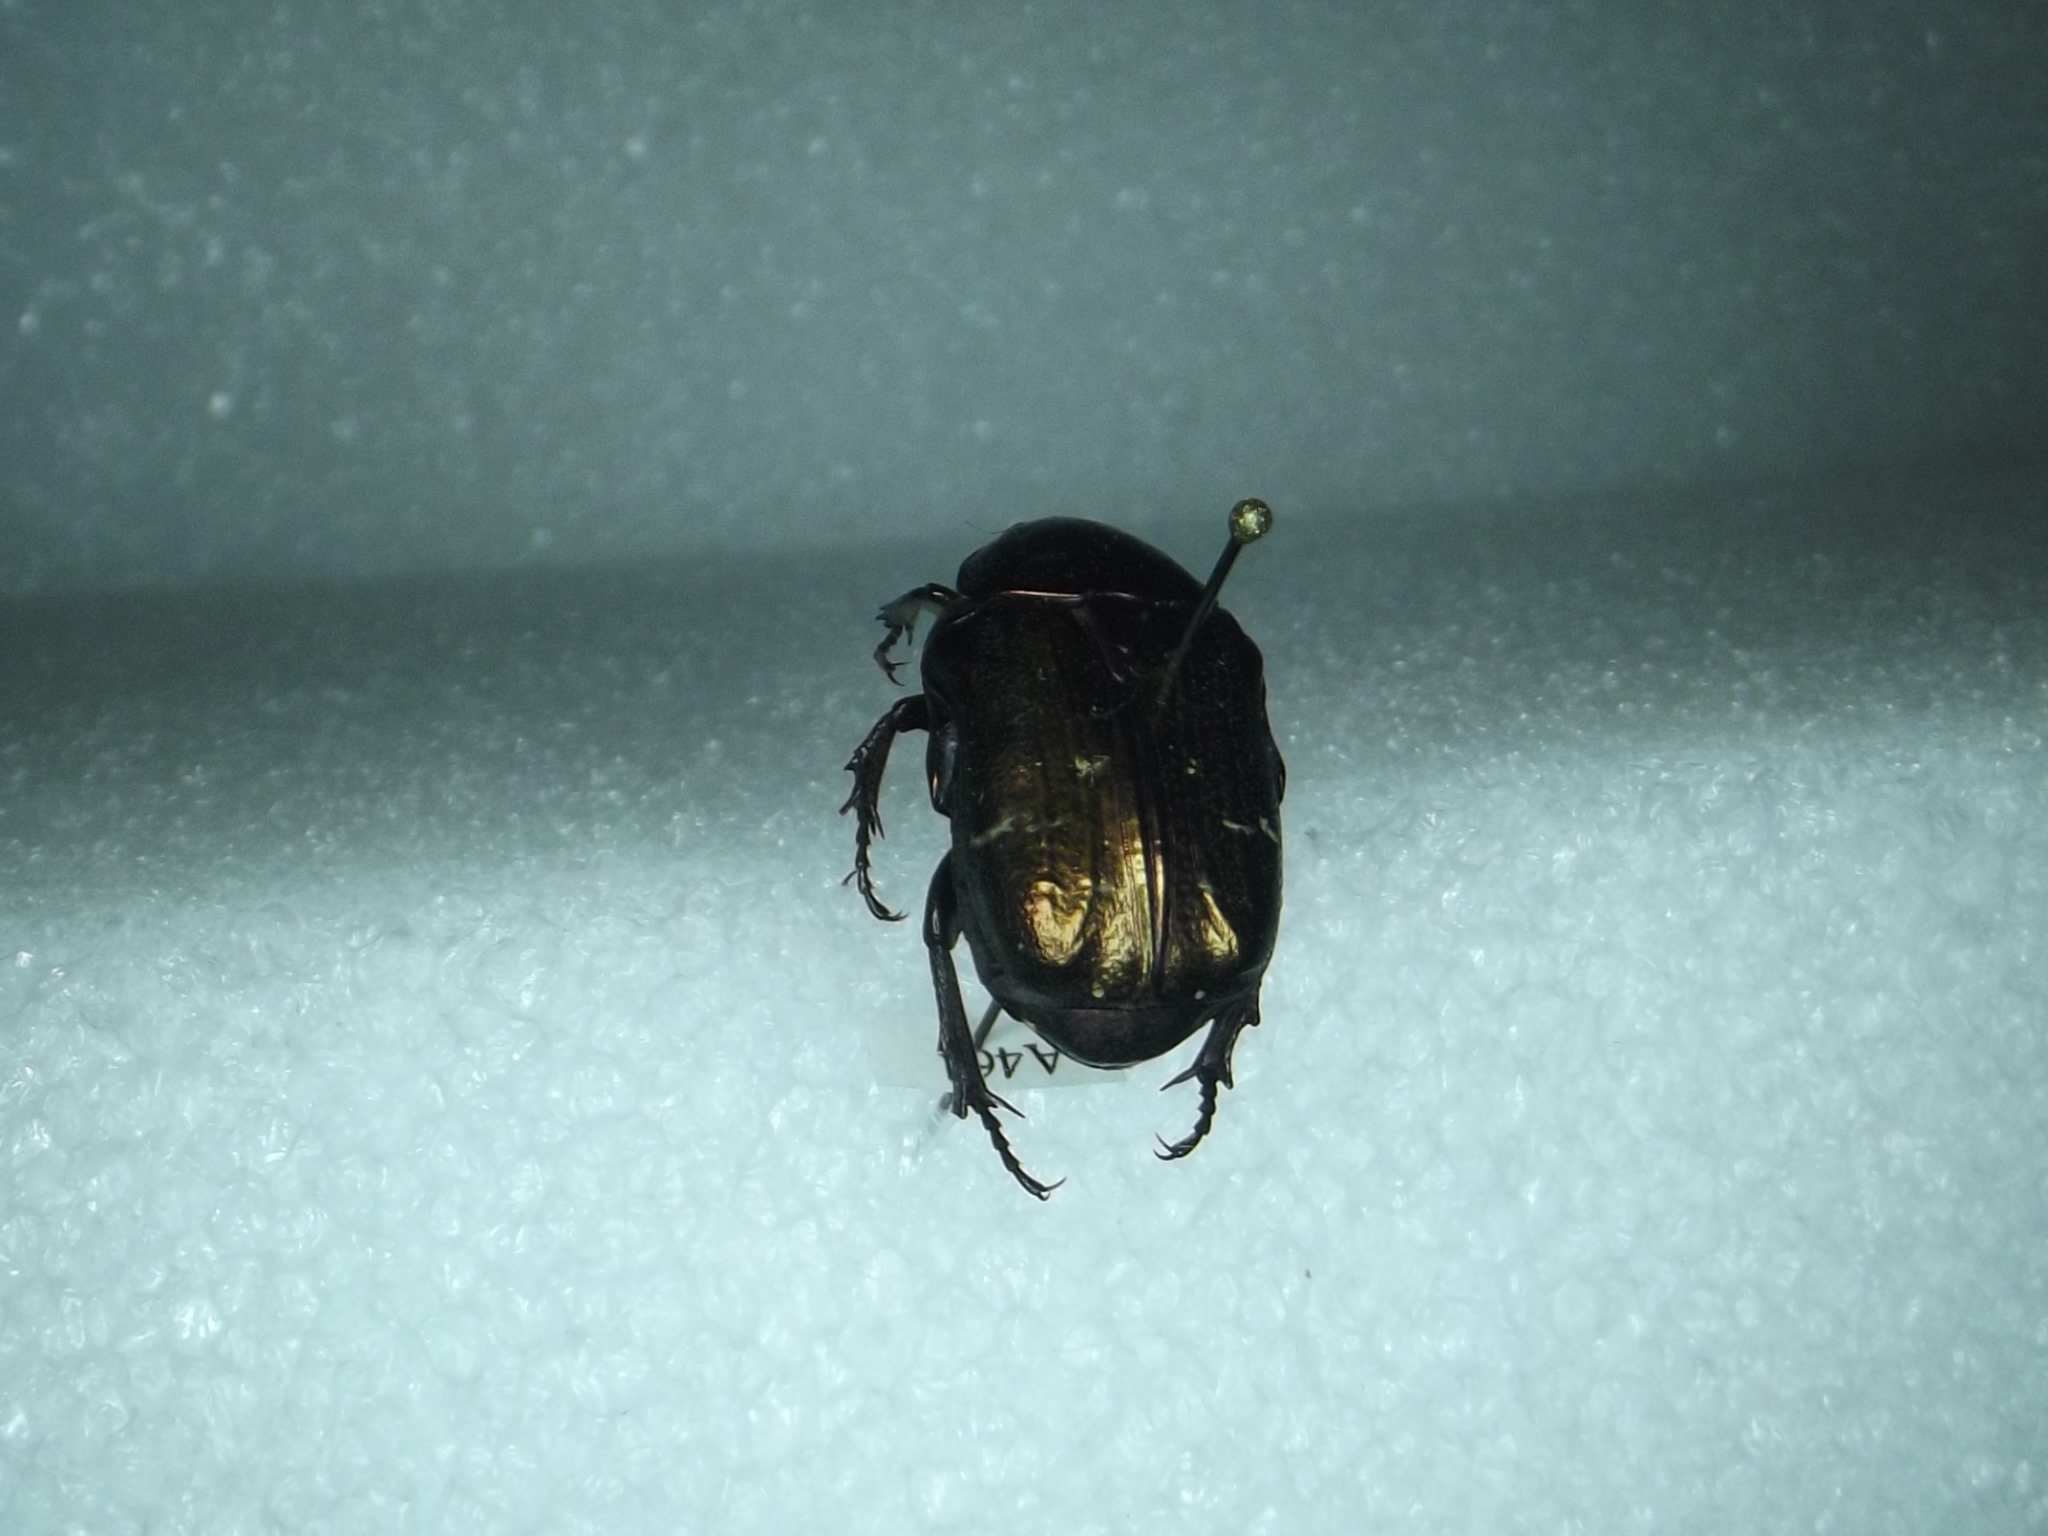Cetonia_kemali: (822, 507, 1297, 1187)
